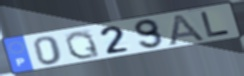0: (32, 35, 64, 67)
2: (100, 24, 134, 56)
9: (132, 18, 166, 50)
A: (167, 12, 207, 47)
L: (199, 10, 232, 39)
Q: (63, 30, 102, 61)
